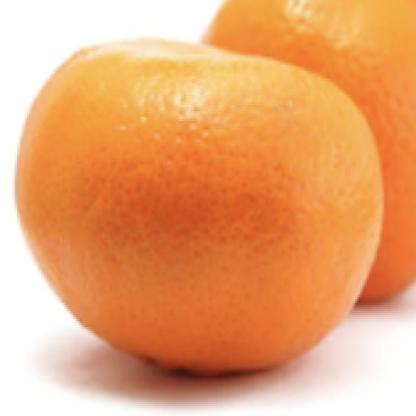fresh: (18, 36, 385, 377)
